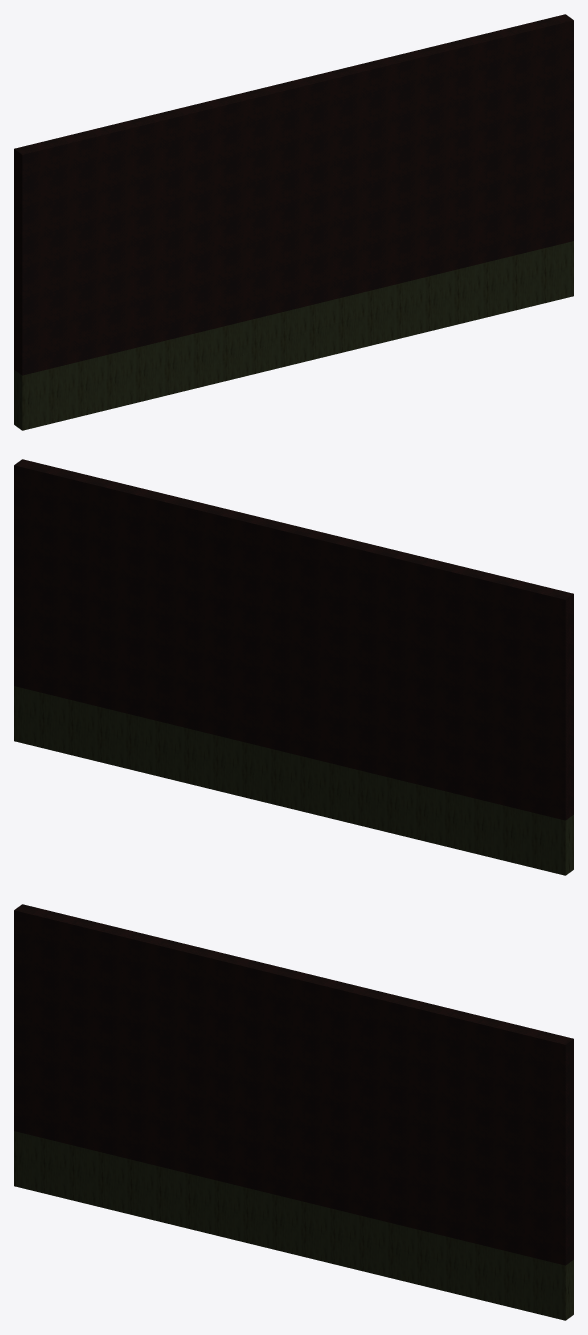
Rendered from wallmetal1.glb.
The picture shows the model from 3 angles, top to bottom: view 1: azimuth 30°, elevation 25°; view 2: azimuth 150°, elevation 25°; view 3: azimuth 330°, elevation 25°; orthographic projection.
Parts seen in each view (by area): view 1: block_half; view 2: block_half; view 3: block_half.
Part boxes in pixels (x1,y1,x2,y2): block_half: [14, 14, 573, 430]; block_half: [14, 459, 573, 875]; block_half: [14, 904, 573, 1320].
Bounding box in the file's own units: 19.04 × 9.1 × 0.5.
2 materials, 2 textured.
